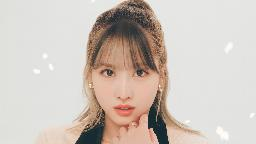face: (94, 61, 158, 122)
